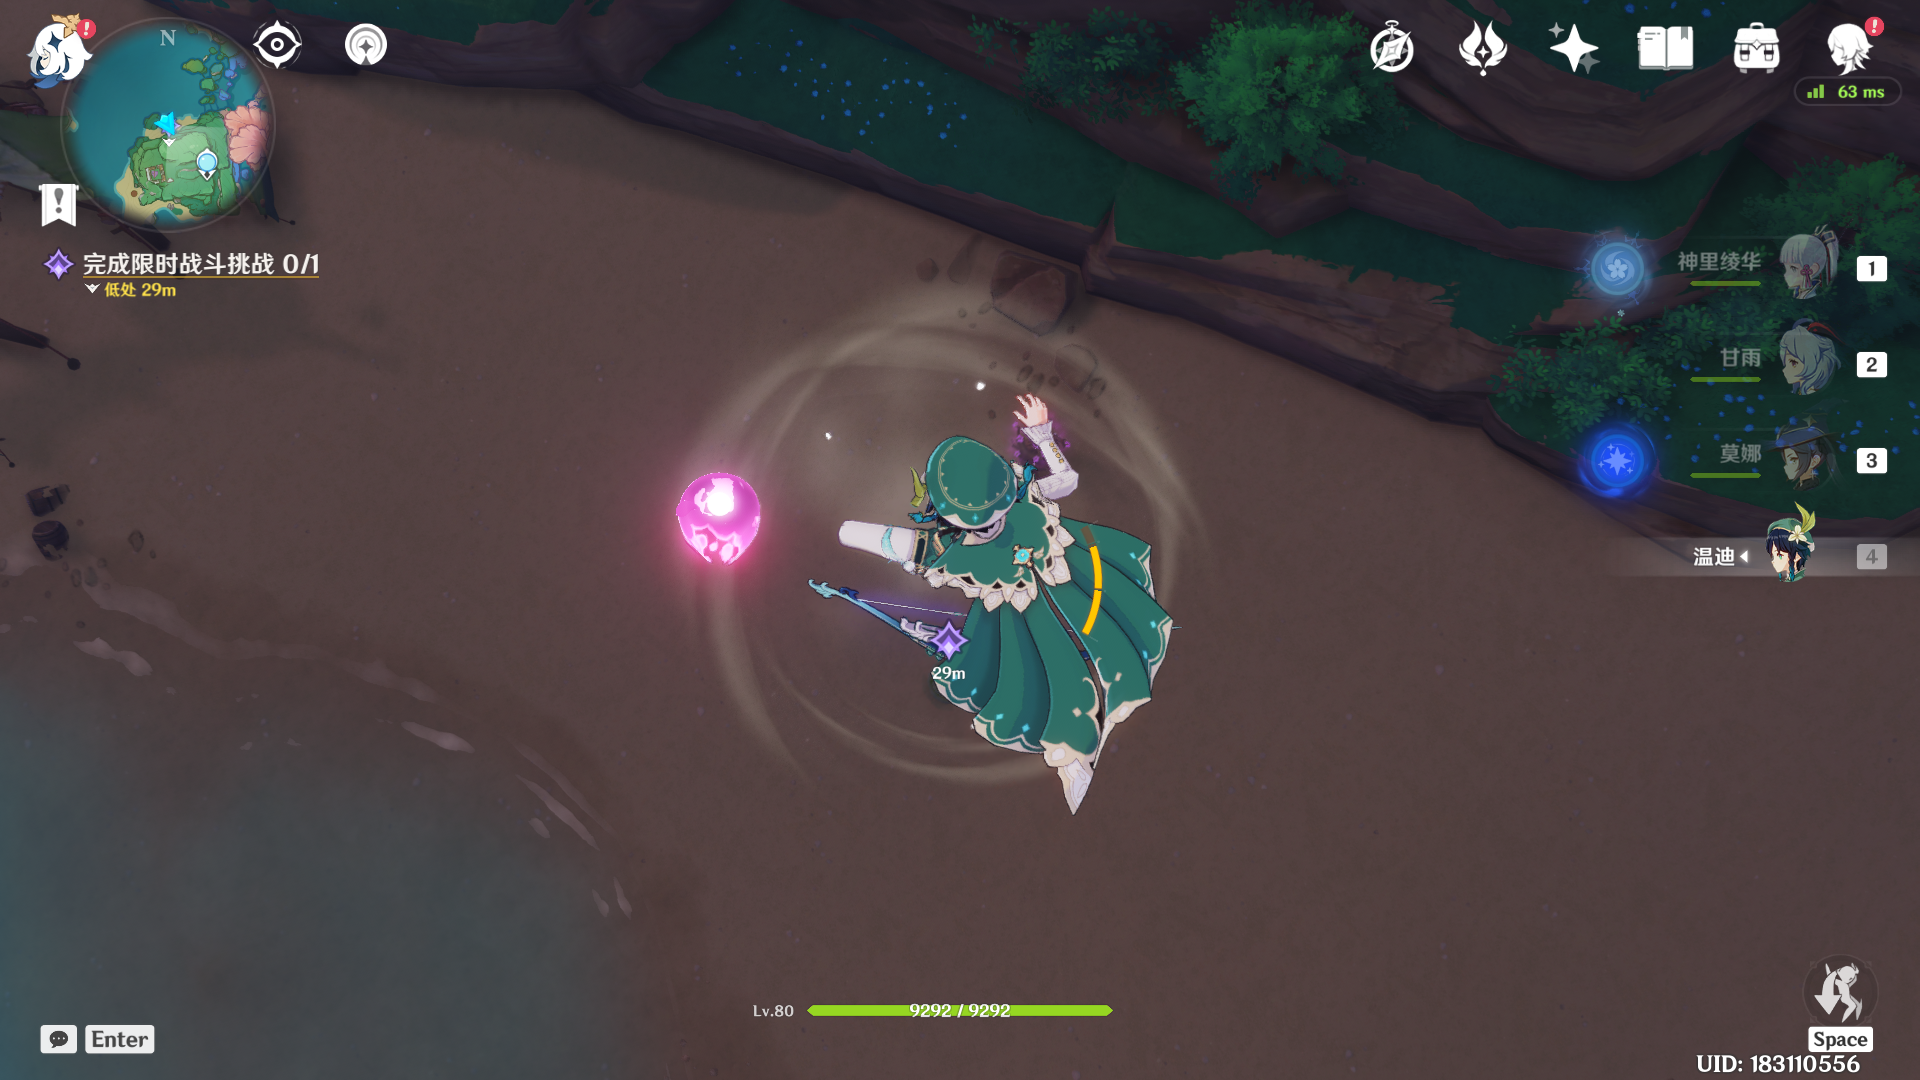character: (802, 400, 1162, 800)
